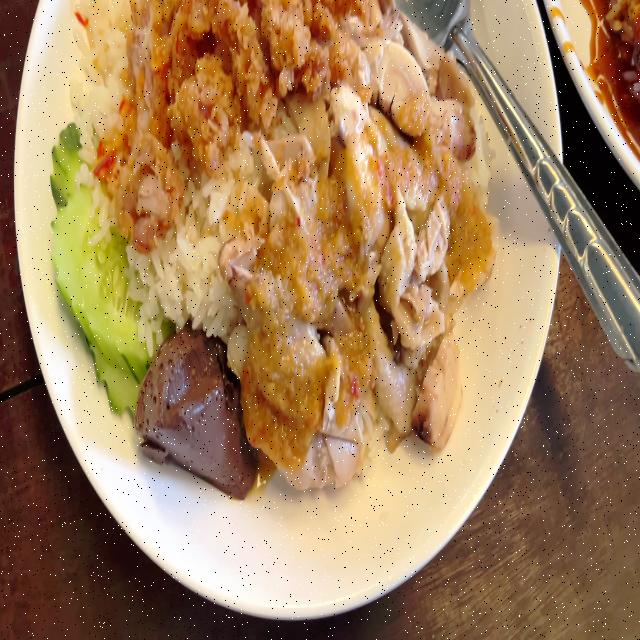boiled_chicken: (244, 23, 482, 466)
boiled_chicken_blood_jelly: (133, 316, 260, 502)
chicken_rice: (51, 0, 500, 495)
cucumber: (50, 112, 158, 414)
fried_chicken: (115, 0, 382, 248)
